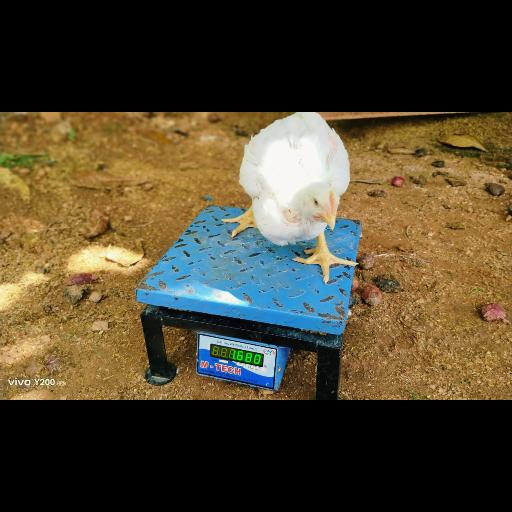chick: (223, 112, 359, 283)
